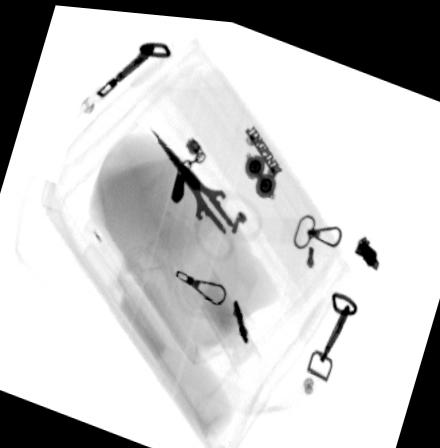Scissors: (148, 123, 262, 261)
